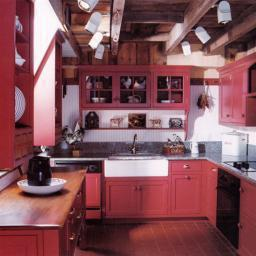Electrodomestico: (217, 160, 240, 250)
Lavaplatos: (110, 129, 162, 160)
